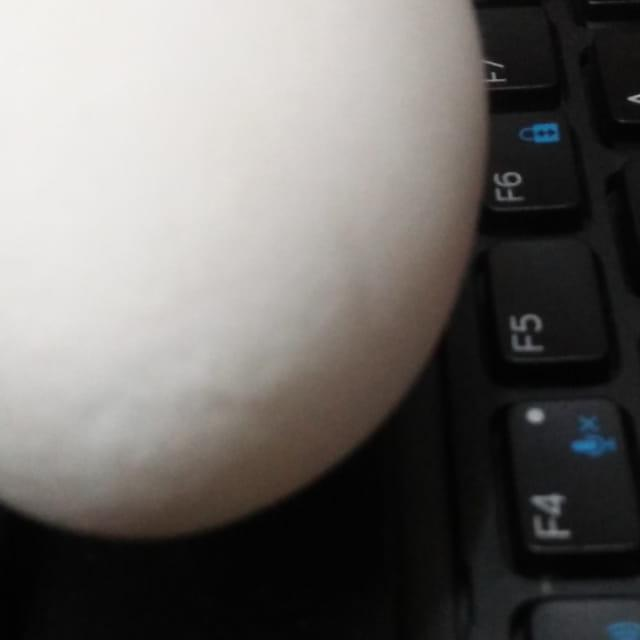egg: (0, 0, 494, 543)
